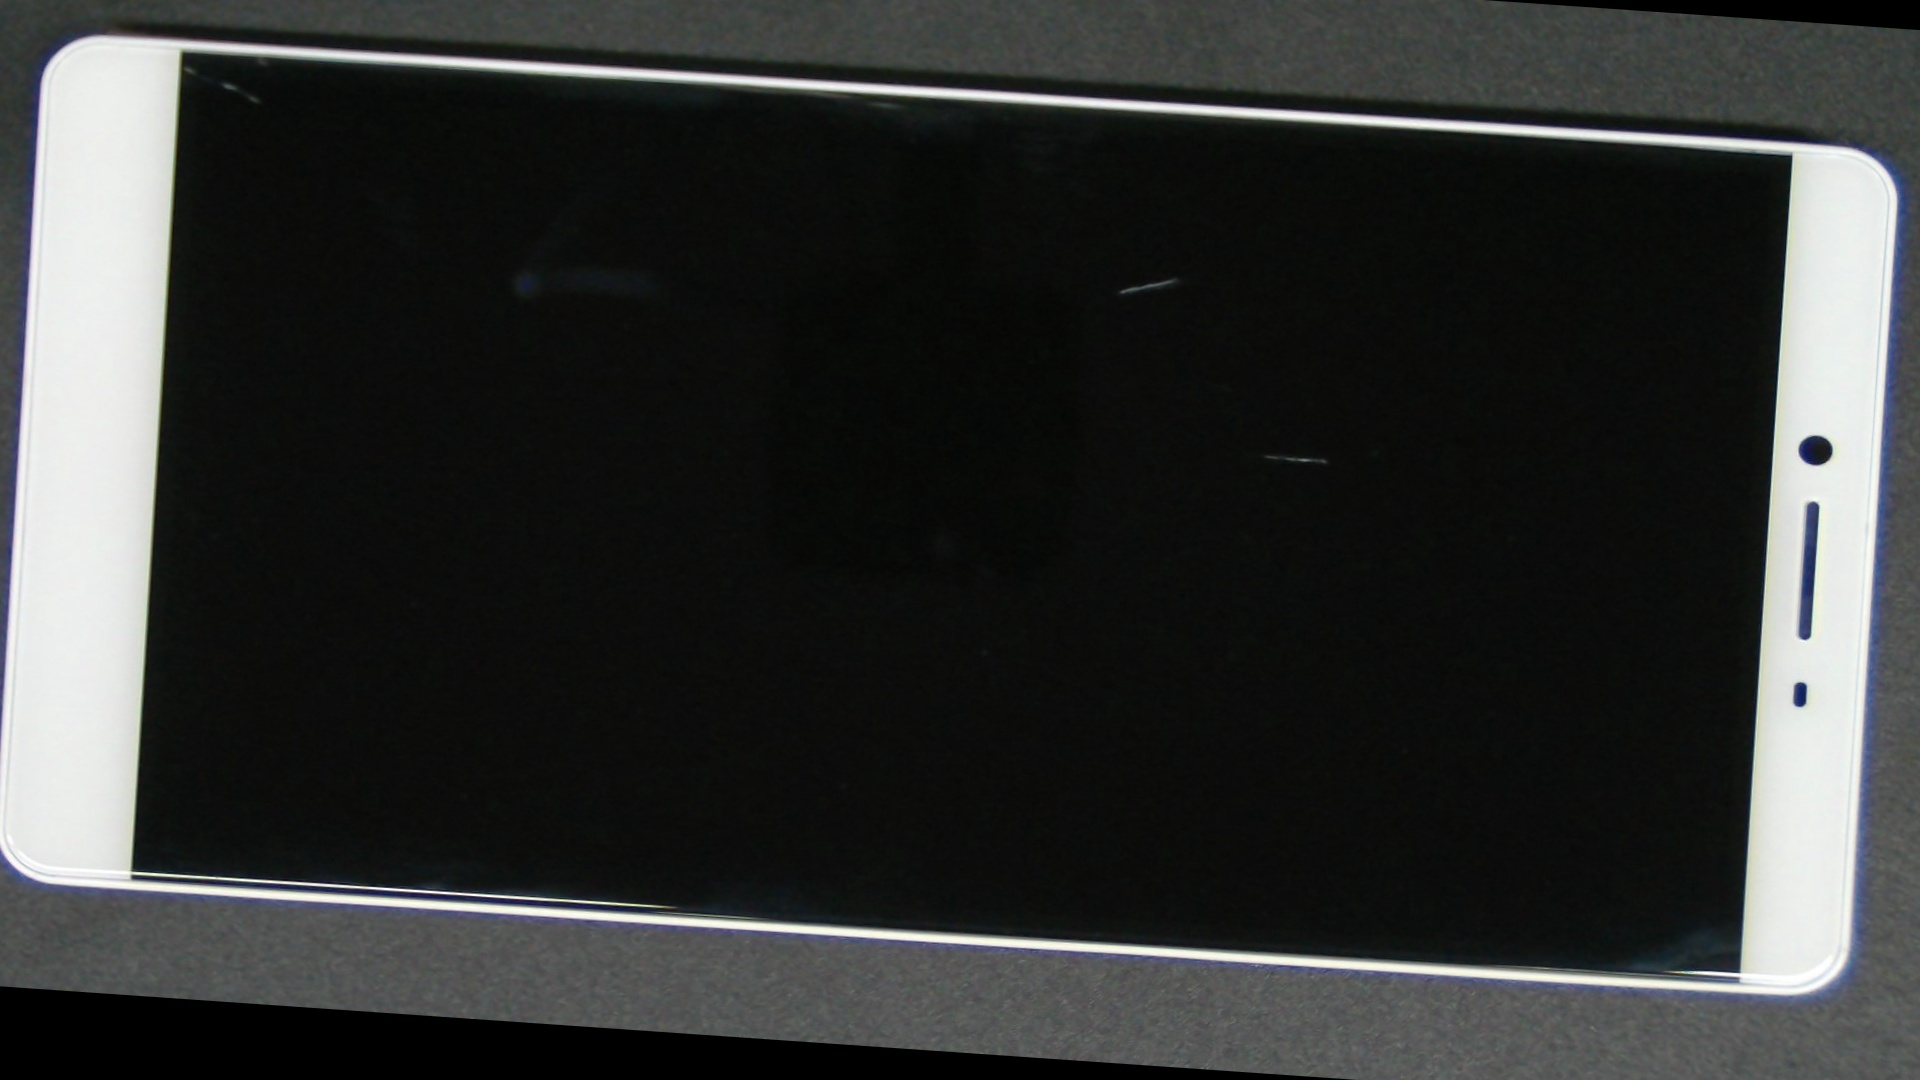oil: (541, 171, 1920, 738), (506, 83, 1845, 472)
